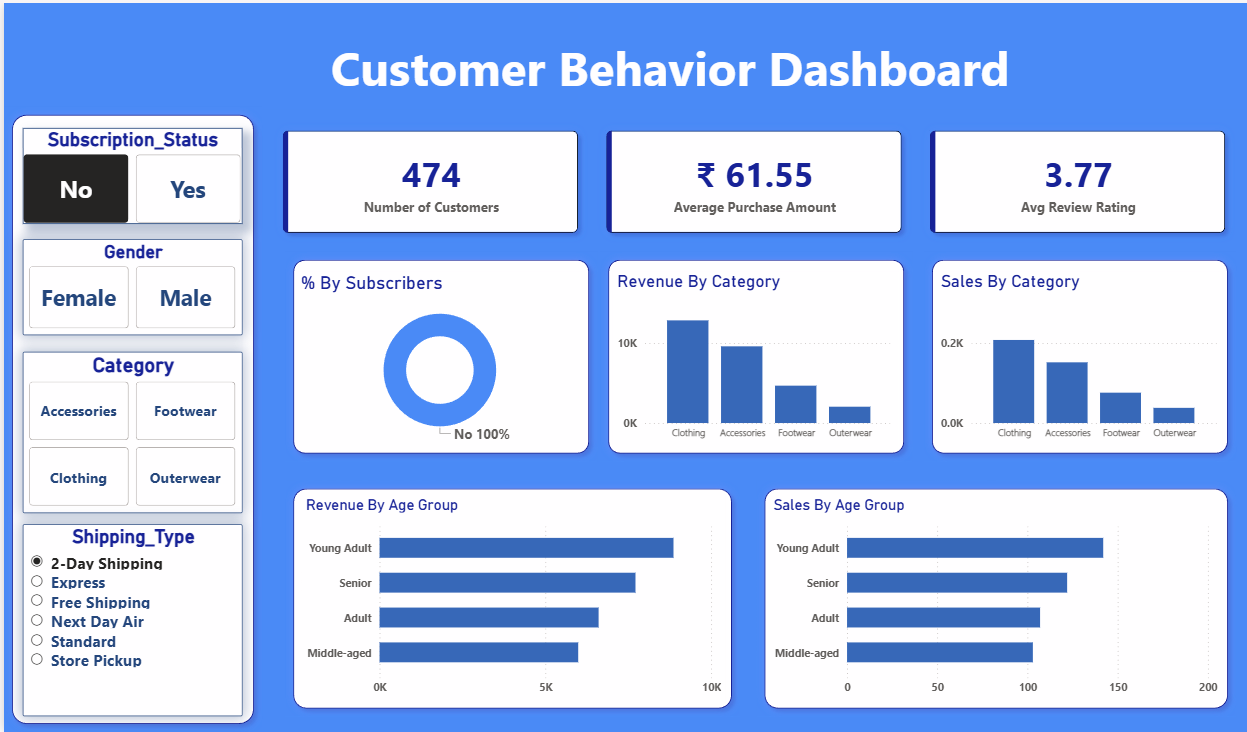

What the dashboard file says about the page in this screenshot:
{"tool":"powerbi","page":{"name":"Page 1","canvas":[1400,820],"ordinal":0},"visuals":[{"type":"cardVisual","fields":{"Data":["public shopping_trends.Number of Customers","public shopping_trends.Average Purchase Amount","public shopping_trends.Avg Review Rating"]},"box":[290.2,119.7,1109.8,163.9],"z":0},{"type":"shape","box":[0,0,1500,116.4],"z":1000},{"type":"textbox","box":[0,31.5,1499.4,85.5],"z":2000},{"type":"shape","box":[316.4,280.3,350.8,236.1],"z":3000},{"type":"donutChart","title":"% By Subscribers","fields":{"Category":["public shopping_trends.subscription_status"],"Y":["CountNonNull(public shopping_trends.customer_id)"]},"box":[329.5,301.6,323,198.4],"z":4000},{"type":"shape","box":[1034.4,280.3,350.8,236.1],"z":5000},{"type":"shape","box":[670.5,280.3,350.8,236.1],"z":6000},{"type":"clusteredColumnChart","title":"Revenue By Category","fields":{"Y":["Sum(public shopping_trends.purchase_amount)"],"Category":["public shopping_trends.category"]},"box":[685.2,301.6,321.3,198.4],"z":7000},{"type":"clusteredColumnChart","title":"Sales By Category","fields":{"Category":["public shopping_trends.category"],"Y":["CountNonNull(public shopping_trends.customer_id)"]},"box":[1049.2,301.6,321.3,198.4],"z":8000},{"type":"shape","box":[0,116.4,290.2,703.3],"z":9000},{"type":"advancedSlicerVisual","title":"Subscription_Status","fields":{"Values":["public shopping_trends.subscription_status"]},"box":[21.3,141,247.5,108.2],"z":10000},{"type":"advancedSlicerVisual","title":"Gender","fields":{"Values":["public shopping_trends.gender"]},"box":[21.3,265.6,247.5,108.2],"z":11000},{"type":"advancedSlicerVisual","title":"Category","fields":{"Values":["public shopping_trends.category"]},"box":[21.3,391.8,247.5,182],"z":12000},{"type":"listSlicer","title":"Shipping_Type","fields":{"Values":["public shopping_trends.shipping_type"]},"box":[21.3,586.9,247.5,216.4],"z":13000},{"type":"shape","box":[316.4,537.7,511.5,265.6],"z":14000},{"type":"clusteredBarChart","title":"Revenue By Age Group","fields":{"Y":["Sum(public shopping_trends.purchase_amount)"],"Category":["public shopping_trends.age_group"]},"box":[334.4,554.1,477,234.4],"z":15000},{"type":"shape","box":[845.9,537.7,539.3,265.6],"z":16000},{"type":"clusteredBarChart","title":"Sales By Age Group","fields":{"Category":["public shopping_trends.age_group"],"Y":["CountNonNull(public shopping_trends.customer_id)"]},"box":[860.7,554.1,509.8,234.4],"z":17000}]}

Visuals, with their boxes in screenshot pixels (x1, y1, x2, y2), scaled from the page's 1400x820 canvas onto the 1247x732 screenshot:
cardVisual - public shopping_trends.Number of Customers x public shopping_trends.Average Purchase Amount: 258/107/1246/253
shape: 0/0/1246/104
textbox: 0/28/1246/104
shape: 282/250/594/461
"% By Subscribers" donutChart: 293/269/581/446
shape: 921/250/1234/461
shape: 597/250/910/461
"Revenue By Category" clusteredColumnChart: 610/269/897/446
"Sales By Category" clusteredColumnChart: 935/269/1221/446
shape: 0/104/258/731
"Subscription_Status" advancedSlicerVisual: 19/126/239/222
"Gender" advancedSlicerVisual: 19/237/239/334
"Category" advancedSlicerVisual: 19/350/239/512
"Shipping_Type" listSlicer: 19/524/239/717
shape: 282/480/737/717
"Revenue By Age Group" clusteredBarChart: 298/495/723/704
shape: 753/480/1234/717
"Sales By Age Group" clusteredBarChart: 767/495/1221/704
